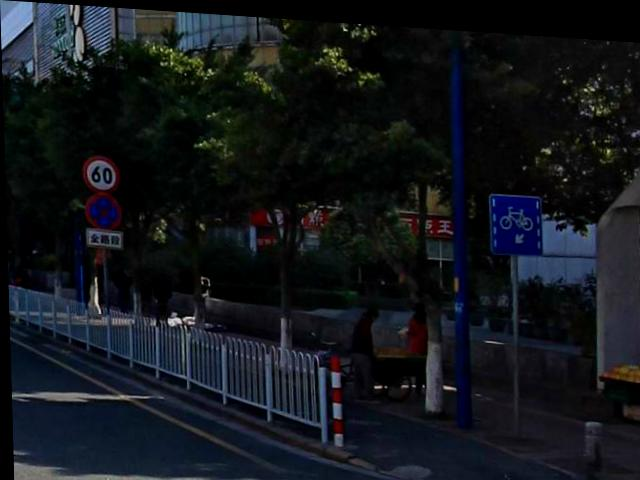limit60: (82, 154, 123, 192)
